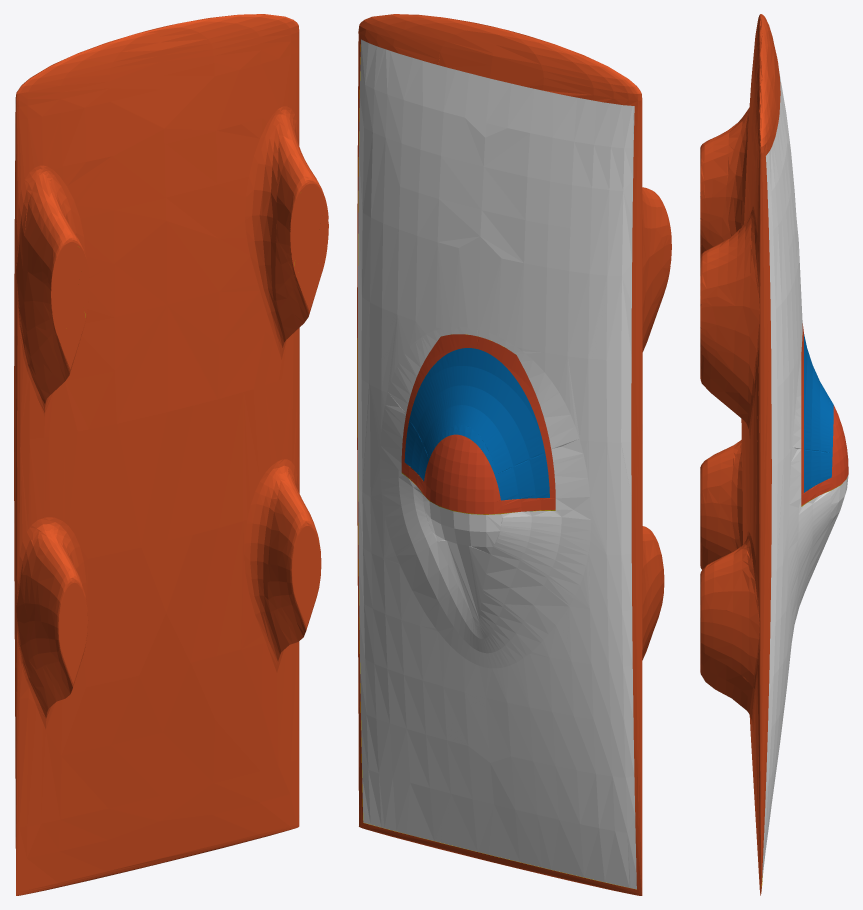
Rendered from PrISUm.obj.
The picture shows the model from 3 angles, left to right: view 1: azimuth 30°, elevation 25°; view 2: azimuth 150°, elevation 25°; view 3: azimuth 270°, elevation 25°; orthographic projection. The views are drawn at different scales.
Parts seen in each view (by area): view 1: g_o85; view 2: g_o85; view 3: g_o85.
Part boxes in pixels (<box>): g_o85: <box>14,14,328,895</box>; g_o85: <box>357,14,671,895</box>; g_o85: <box>700,14,848,895</box>.
Bounding box in the file's own units: 1.76 × 4.96 × 0.8564.
